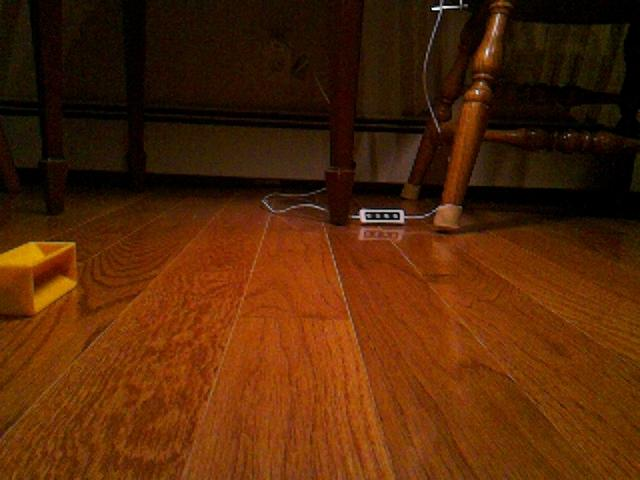yellow: (1, 239, 79, 318)
